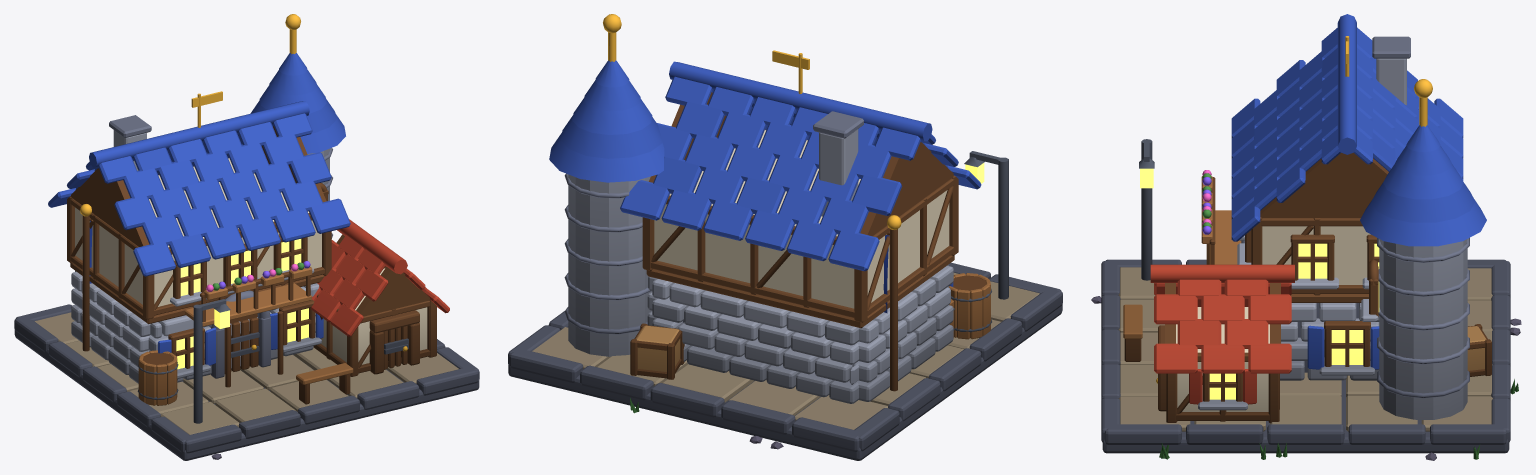
The model's file is inhabitants_hall.glb.
3 renders of one model, left to right at view 1: azimuth 30°, elevation 25°; view 2: azimuth 150°, elevation 25°; view 3: azimuth 270°, elevation 25°, orthographic. The views are drawn at different scales.
Visible parts, largest first — view 1: t0_roof_blue, t0_wood_dark, t0_stone_dark, t0_stone_warm, t0_stone, t0_roof_red, t0_plaster, t2_roof_blue, t1_wood, t0_wood, t0_iron, t0_window (+3 smaller); view 2: t0_roof_blue, t0_stone, t0_stone_dark, t0_wood_dark, t2_stone, t0_plaster, t0_stone_warm, t2_roof_blue, t2_stone_dark, t0_iron, t0_wood, t0_wood_light (+3 smaller); view 3: t0_roof_blue, t0_stone_dark, t0_wood_dark, t0_roof_red, t2_stone, t0_stone_warm, t2_roof_blue, t0_stone, t0_plaster, t2_stone_dark, t0_window, t1_wood (+6 smaller).
Part boxes in pixels (x1=…): t0_roof_blue: x1=48, y1=101, x2=350, y2=365; t0_wood_dark: x1=67, y1=126, x2=436, y2=404; t0_stone_dark: x1=14, y1=115, x2=479, y2=460; t0_stone_warm: x1=35, y1=312, x2=458, y2=434; t0_stone: x1=71, y1=130, x2=321, y2=383; t0_roof_red: x1=311, y1=219, x2=449, y2=336; t0_plaster: x1=75, y1=158, x2=427, y2=364; t2_roof_blue: x1=250, y1=53, x2=345, y2=153; t1_wood: x1=185, y1=267, x2=312, y2=326; t0_wood: x1=138, y1=350, x2=353, y2=405; t0_iron: x1=137, y1=299, x2=408, y2=423; t0_window: x1=176, y1=239, x2=308, y2=369; t0_roof_blue: x1=620, y1=61, x2=981, y2=286; t0_stone: x1=647, y1=129, x2=953, y2=403; t0_stone_dark: x1=508, y1=111, x2=1062, y2=460; t0_wood_dark: x1=630, y1=92, x2=985, y2=379; t2_stone: x1=568, y1=174, x2=652, y2=356; t0_plaster: x1=654, y1=130, x2=949, y2=308; t0_stone_warm: x1=532, y1=272, x2=1039, y2=429; t2_roof_blue: x1=549, y1=60, x2=664, y2=182; t2_stone_dark: x1=564, y1=173, x2=650, y2=334; t0_iron: x1=951, y1=151, x2=1008, y2=332; t0_wood: x1=949, y1=273, x2=990, y2=339; t0_wood_light: x1=636, y1=325, x2=680, y2=371; t0_roof_blue: x1=1231, y1=14, x2=1463, y2=369; t0_stone_dark: x1=1101, y1=36, x2=1510, y2=453; t0_wood_dark: x1=1124, y1=152, x2=1491, y2=423; t0_roof_red: x1=1150, y1=264, x2=1294, y2=404; t2_stone: x1=1361, y1=239, x2=1467, y2=419; t0_stone_warm: x1=1118, y1=267, x2=1492, y2=431; t2_roof_blue: x1=1360, y1=125, x2=1486, y2=246; t0_stone: x1=1198, y1=58, x2=1406, y2=410; t0_plaster: x1=1176, y1=226, x2=1370, y2=411; t2_stone_dark: x1=1377, y1=238, x2=1469, y2=398; t0_window: x1=1140, y1=168, x2=1379, y2=399; t1_wood: x1=1201, y1=176, x2=1241, y2=264.
Size of the model in its own units: 3.04 by 2.77 by 3.11.
